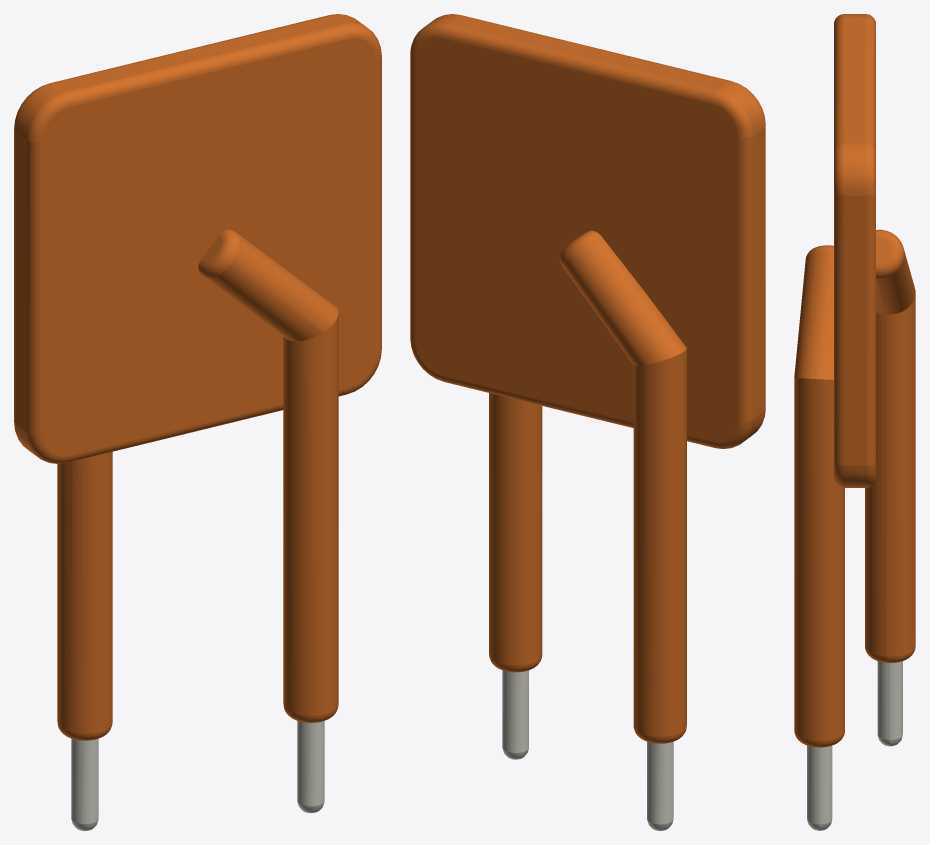
File: kc-fuse_belfuse_0zre_0zre0025ff_l9.6mm_w3.8mm.glb
3 views of the same model, side by side, from view 1: azimuth 30°, elevation 25°; view 2: azimuth 150°, elevation 25°; view 3: azimuth 270°, elevation 25° (orthographic). The views are drawn at different scales.
Visible parts, largest first — view 1: 0.5833333333333334_0.16666666666666666_0_0, 0.6666666666666666_0.6666666666666666_0.5833333333333334_0.8; view 2: 0.5833333333333334_0.16666666666666666_0_0, 0.6666666666666666_0.6666666666666666_0.5833333333333334_0.8; view 3: 0.5833333333333334_0.16666666666666666_0_0, 0.6666666666666666_0.6666666666666666_0.5833333333333334_0.8.
Part boxes in pixels (x1,y1,x2,y2): 0.5833333333333334_0.16666666666666666_0_0: (14,14,381,740); 0.6666666666666666_0.6666666666666666_0.5833333333333334_0.8: (71,721,324,830); 0.5833333333333334_0.16666666666666666_0_0: (410,14,765,743); 0.6666666666666666_0.6666666666666666_0.5833333333333334_0.8: (502,670,673,830); 0.5833333333333334_0.16666666666666666_0_0: (794,14,915,747); 0.6666666666666666_0.6666666666666666_0.5833333333333334_0.8: (807,661,902,830).
Bounding box in the file's own units: 0.96 × 1.99 × 0.3099.
